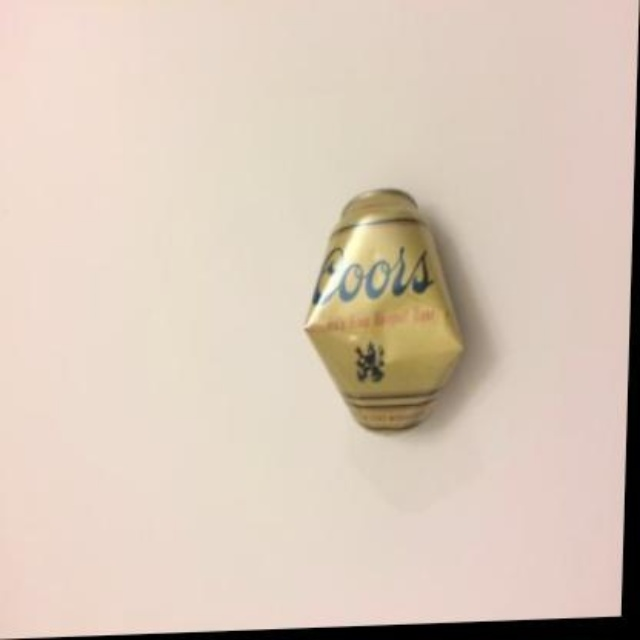trash: (305, 189, 462, 428)
